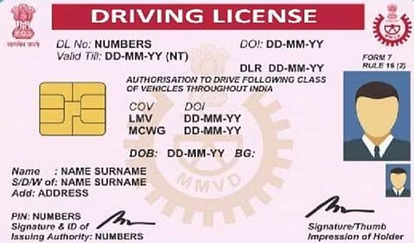drivinglicence: (1, 3, 413, 241)
